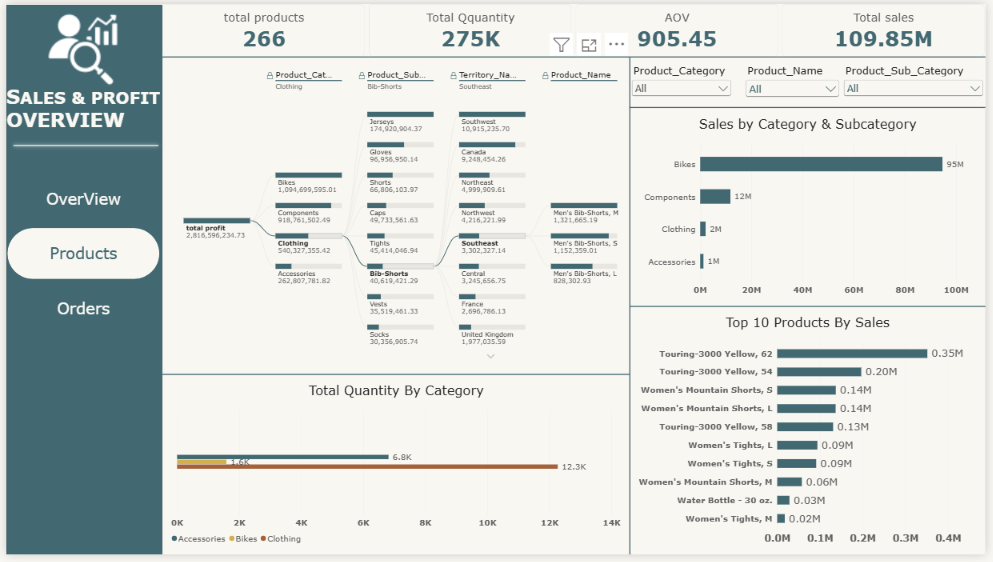

The page's visual inventory and layout, read from the dashboard file:
{"tool":"powerbi","page":{"name":"Products","canvas":[1920,1080],"ordinal":1},"visuals":[{"type":"shape","box":[0,2,305.9,1078.4],"z":2002},{"type":"shape","box":[5.9,223.5,300,107.8],"z":2003},{"type":"pageNavigator","box":[2,331.4,298,317.6],"z":2004},{"type":"image","box":[0,19.6,300,139.2],"z":2005},{"type":"textbox","box":[0,158.8,337.3,117.6],"z":2006},{"type":"cardVisual","fields":{"Data":["Measures (2).total products","Measures (2).Total Qquantity","Measures (2).AOV","Measures (2).Total sales"]},"box":[305.9,0,1613.7,103.9],"z":2007},{"type":"clusteredBarChart","title":"Top 10 Products By Sales","fields":{"Category":["dim product.Product_Name"],"Y":["Measures (2).Total sales"]},"box":[1221.6,592.2,698,488.2],"z":2008},{"type":"clusteredBarChart","title":"Sales by Category & Subcategory","fields":{"Category":["dim product.Product_Category","dim product.Product_Sub_Category","dim product.Product_Name"],"Y":["Measures (2).Total sales"]},"box":[1221.6,203.9,698,388.2],"z":2009},{"type":"decompositionTreeVisual","fields":{"Analyze":["Measures (2).total profit"],"ExplainBy":["dim product.Product_Category","dim product.Product_Sub_Category","dim territory.Territory_Name","dim product.Product_Name"]},"box":[305.9,103.9,915.7,621.6],"z":2010},{"type":"slicer","fields":{"Values":["dim product.Product_Category"]},"box":[1221.6,117.6,203.9,105.9],"z":2011},{"type":"slicer","fields":{"Values":["dim product.Product_Sub_Category"]},"box":[1637.3,117.6,282.4,209.8],"z":2012},{"type":"slicer","fields":{"Values":["dim product.Product_Name"]},"box":[1445.1,117.6,192.2,86.3],"z":2013},{"type":"clusteredBarChart","title":"Total Quantity By Category","fields":{"Series":["dim product.Product_Category"],"Y":["Measures (2).Total Qquantity"]},"box":[305.9,725.5,915.7,354.9],"z":2014},{"type":"shape","box":[1221.6,182.4,698,41.2],"z":2015},{"type":"shape","box":[1221.6,539.2,698,107.8],"z":2016},{"type":"shape","box":[305.9,84.3,1613.7,39.2],"z":2017},{"type":"shape","box":[305.9,672.5,915.7,107.8],"z":2018},{"type":"shape","box":[1113.7,103.9,217.6,976.5],"z":2019}]}

Visuals, with their boxes in screenshot pixels (x1, y1, x2, y2), scaled from the page's 1920x1080 canvas onto the 993x562 screenshot:
shape: 0 1 158 561
shape: 3 116 158 172
pageNavigator: 1 172 155 338
image: 0 10 155 83
textbox: 0 83 174 144
cardVisual - Measures (2).total products x Measures (2).Total Qquantity: 158 0 992 54
"Top 10 Products By Sales" clusteredBarChart: 632 308 992 561
"Sales by Category & Subcategory" clusteredBarChart: 632 106 992 308
decompositionTreeVisual - Measures (2).total profit x dim product.Product_Category: 158 54 632 378
slicer - dim product.Product_Category: 632 61 737 116
slicer - dim product.Product_Sub_Category: 847 61 992 170
slicer - dim product.Product_Name: 747 61 847 106
"Total Quantity By Category" clusteredBarChart: 158 378 632 561
shape: 632 95 992 116
shape: 632 281 992 337
shape: 158 44 992 64
shape: 158 350 632 406
shape: 576 54 689 561
